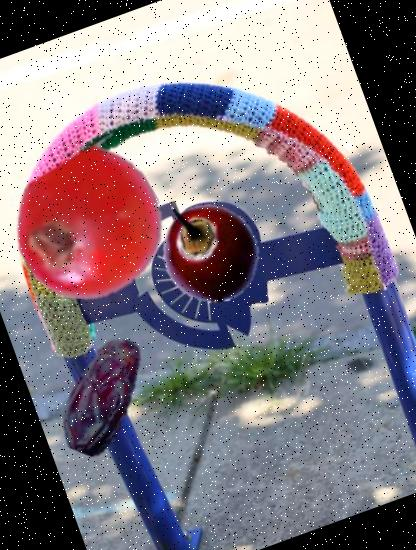Dates: (23, 316, 181, 474)
Redcurrant: (0, 132, 183, 320)
Tamarillo: (146, 188, 276, 316)
